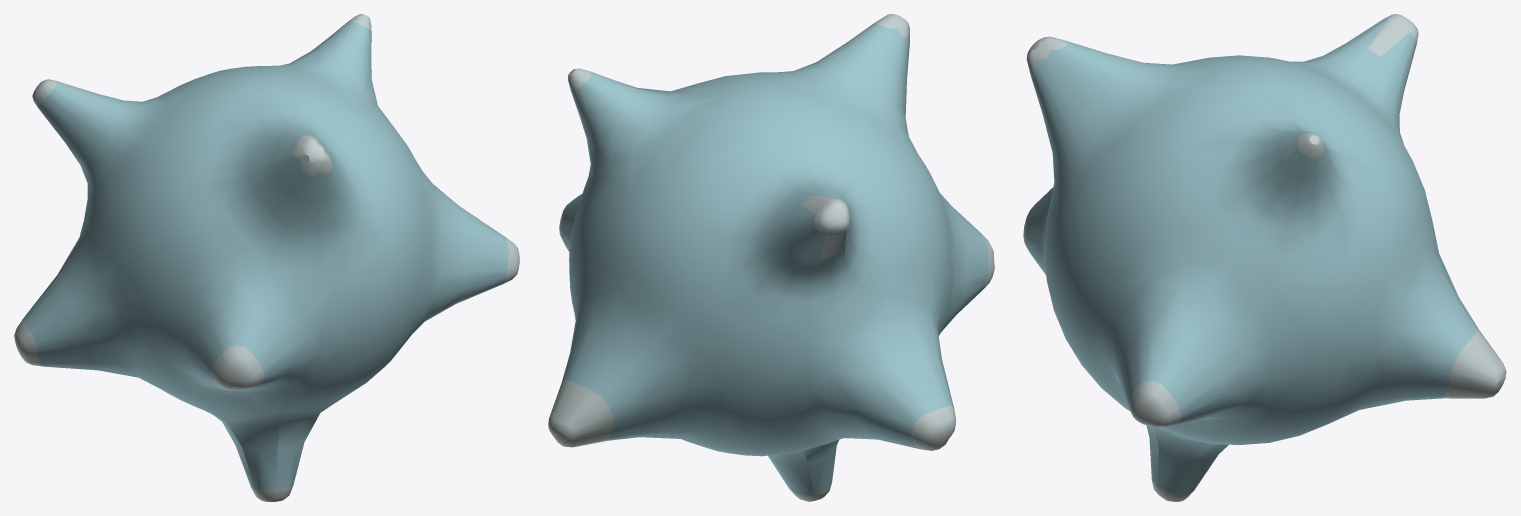
The model's file is green_spike.glb.
The picture shows the model from 3 angles, left to right: view 1: azimuth 30°, elevation 25°; view 2: azimuth 150°, elevation 25°; view 3: azimuth 270°, elevation 25°; orthographic projection. The views are drawn at different scales.
Visible parts, largest first — view 1: Green Spike; view 2: Green Spike; view 3: Green Spike.
Boxes of the visible parts, x1=… form: Green Spike: x1=14, y1=14, x2=519, y2=501; Green Spike: x1=548, y1=14, x2=994, y2=501; Green Spike: x1=1023, y1=14, x2=1506, y2=501.
Size of the model in its own units: 4.49 by 4.09 by 3.96.
1 material, 1 textured.
